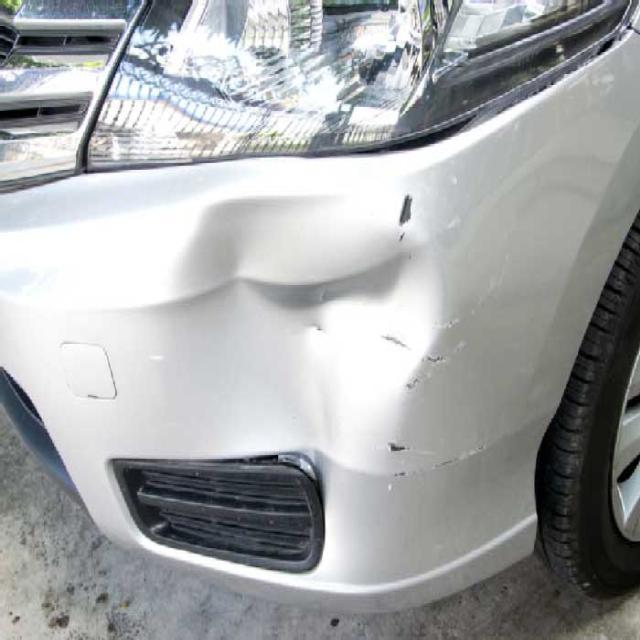Dent: (187, 181, 448, 445)
